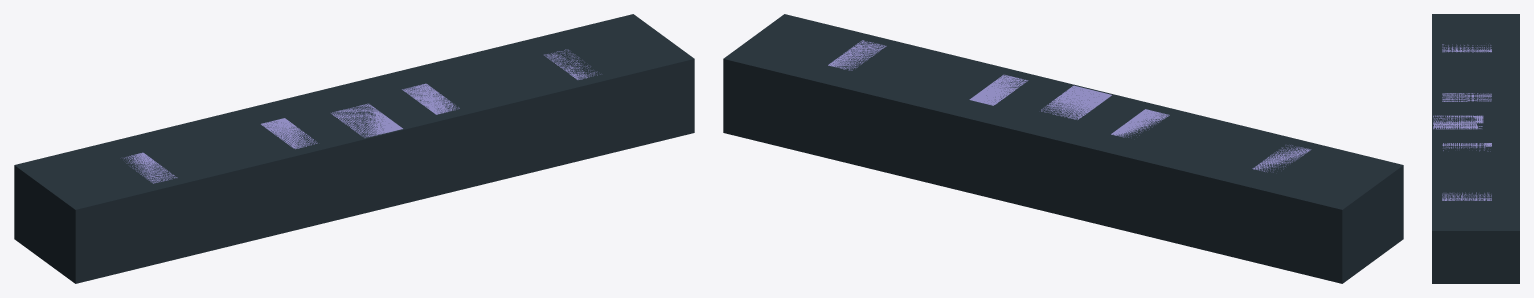
3 views of the same model, side by side, from view 1: azimuth 30°, elevation 25°; view 2: azimuth 150°, elevation 25°; view 3: azimuth 270°, elevation 25° (orthographic). The views are drawn at different scales.
Parts seen in each view (by area): view 1: strip-body, tower-spine, tower-fin-0.04, tower-fin--0.04, tower-fin--0.12, tower-fin-0.12; view 2: strip-body, tower-spine, tower-fin-0.04, tower-fin-0.12, tower-fin--0.04, tower-fin--0.12; view 3: strip-body, tower-spine, tower-fin--0.04, tower-fin-0.12, tower-fin--0.12, tower-fin-0.04.
Part boxes in pixels (bbox=[...]): strip-body: bbox=[14, 14, 694, 283]; tower-spine: bbox=[331, 103, 402, 137]; tower-fin-0.04: bbox=[402, 83, 459, 114]; tower-fin--0.04: bbox=[261, 118, 317, 149]; tower-fin--0.12: bbox=[124, 152, 177, 183]; tower-fin-0.12: bbox=[544, 49, 600, 79]; strip-body: bbox=[723, 14, 1403, 283]; tower-spine: bbox=[1041, 85, 1111, 119]; tower-fin-0.04: bbox=[969, 74, 1028, 105]; tower-fin-0.12: bbox=[828, 40, 886, 70]; tower-fin--0.04: bbox=[1111, 109, 1169, 137]; tower-fin--0.12: bbox=[1252, 145, 1311, 172]; strip-body: bbox=[1432, 14, 1519, 283]; tower-spine: bbox=[1433, 115, 1483, 129]; tower-fin--0.04: bbox=[1442, 93, 1491, 101]; tower-fin-0.12: bbox=[1442, 192, 1491, 200]; tower-fin--0.12: bbox=[1442, 44, 1491, 52]; tower-fin-0.04: bbox=[1442, 143, 1491, 151].
Bounding box in the file's own units: 0.35 × 0.04 × 0.06.
